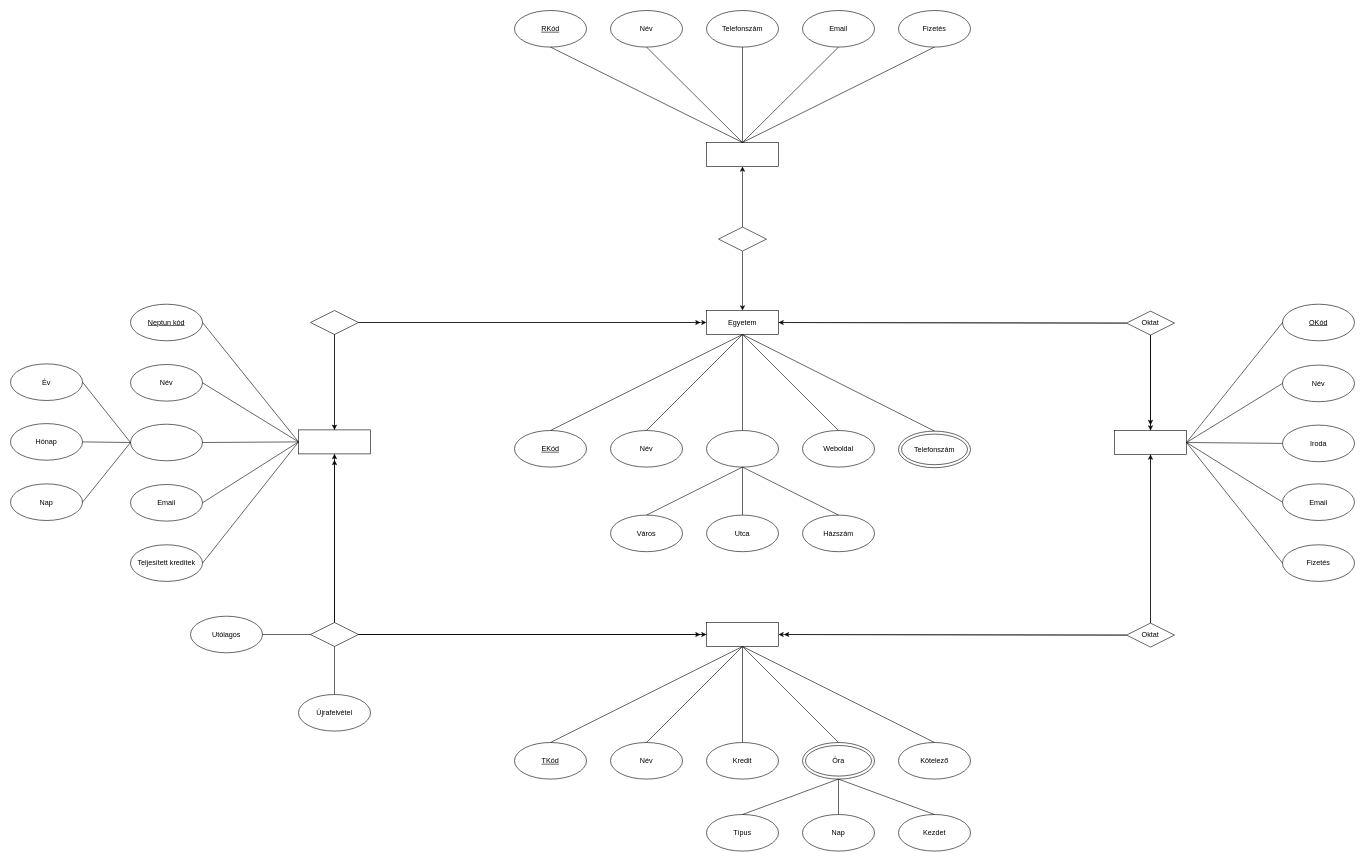
This 1365x862 diagram has some shape labels left out. Here are the shapes that lost their labels. From the top down, the centre of each, then its label:
point 742,154: Rektor
point 742,238: Rektora
point 334,322: Tanul
point 166,442: Születési dátum
point 334,441: Hallgató
point 742,448: Cím
point 1150,442: Oktató
point 334,634: Felvett
point 742,634: Tárgy
